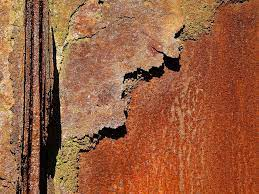rust: (61, 9, 259, 192), (17, 1, 56, 191)
